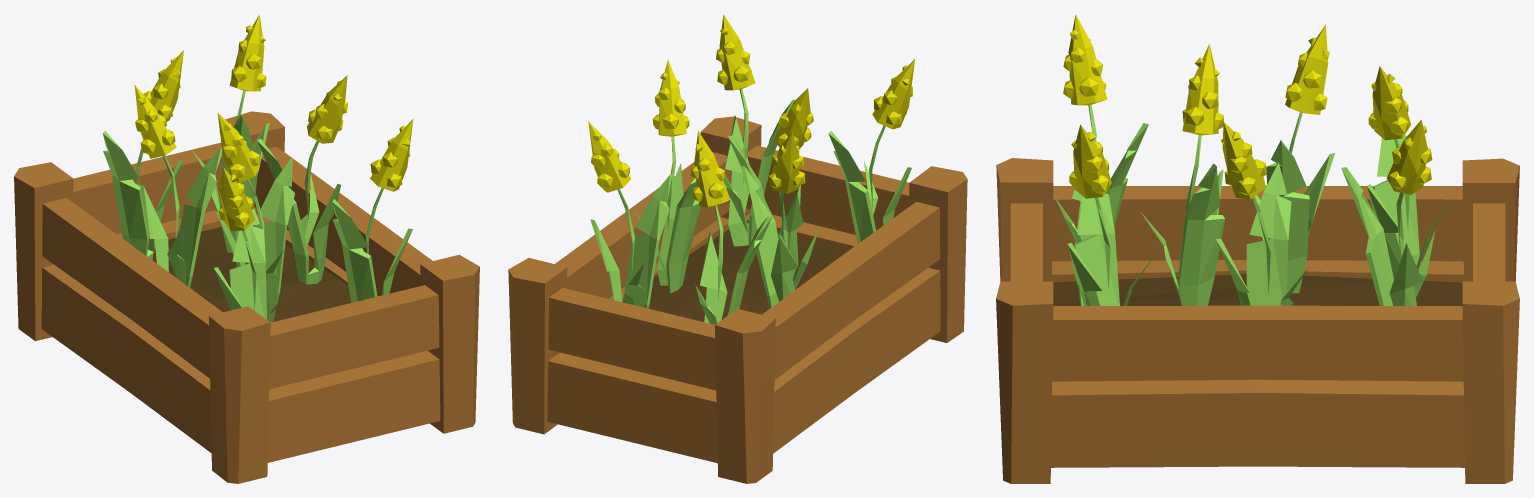
The model's file is flowers_bed_03.fbx.
3 renders of one model, left to right at view 1: azimuth 30°, elevation 25°; view 2: azimuth 150°, elevation 25°; view 3: azimuth 270°, elevation 25°, orthographic. The views are drawn at different scales.
Visible parts, largest first — view 1: flowers_bed_03; view 2: flowers_bed_03; view 3: flowers_bed_03.
Boxes of the visible parts, x1=… form: flowers_bed_03: x1=14, y1=14, x2=479, y2=483; flowers_bed_03: x1=508, y1=14, x2=967, y2=483; flowers_bed_03: x1=996, y1=14, x2=1519, y2=483.
Bounding box in the file's own units: 101 × 109 × 151.
